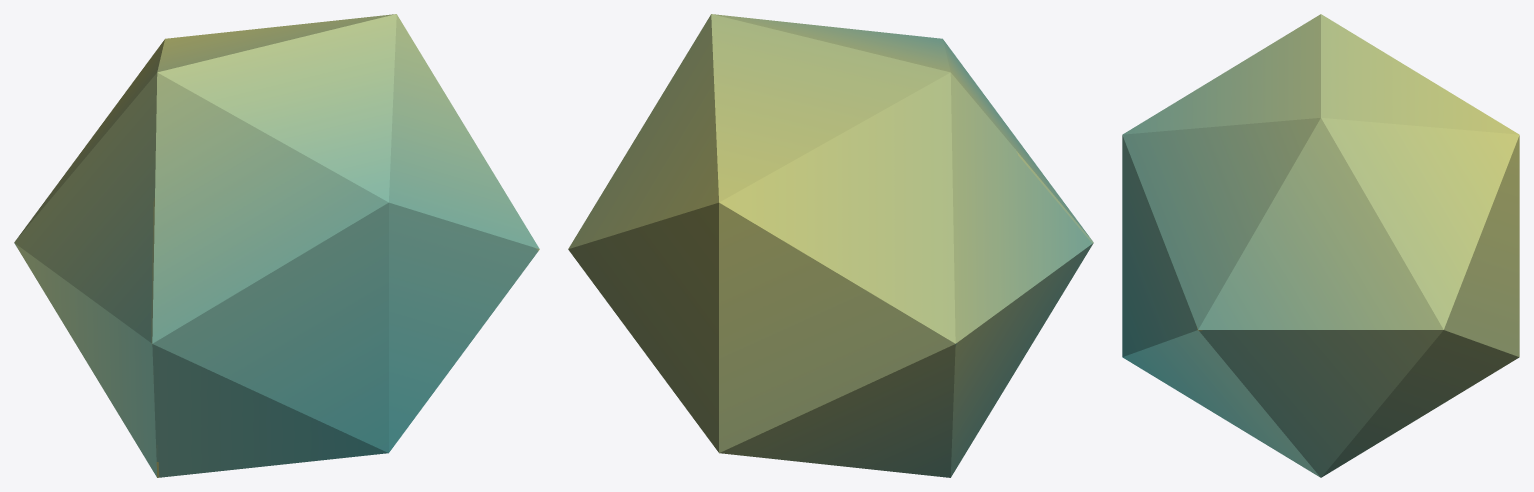
The model's file is Icosahedron.glb.
3 renders of one model, left to right at view 1: azimuth 30°, elevation 25°; view 2: azimuth 150°, elevation 25°; view 3: azimuth 270°, elevation 25°, orthographic. The views are drawn at different scales.
Parts seen in each view (by area): view 1: Icosahedron; view 2: Icosahedron; view 3: Icosahedron.
Boxes of the visible parts, x1,y1,x2,y2 form: Icosahedron: [14, 14, 539, 477]; Icosahedron: [568, 14, 1093, 477]; Icosahedron: [1122, 14, 1519, 477].
Size of the model in its own units: 1.63 by 1.63 by 1.63.
1 material, 1 textured.
